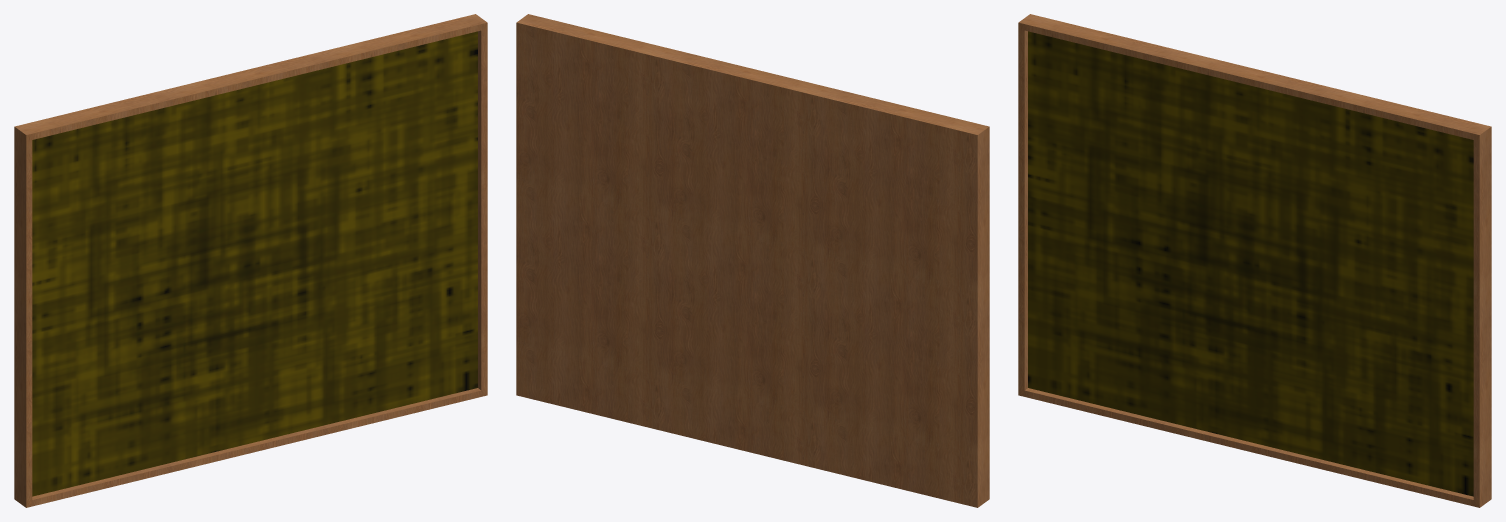
File: PictureFrame2.FBX
The picture shows the model from 3 angles, left to right: view 1: azimuth 30°, elevation 25°; view 2: azimuth 150°, elevation 25°; view 3: azimuth 330°, elevation 25°; orthographic projection.
Visible parts, largest first — view 1: PictureFrame2; view 2: PictureFrame2; view 3: PictureFrame2.
Boxes of the visible parts, x1,y1,x2,y2 form: PictureFrame2: [14, 14, 487, 507]; PictureFrame2: [516, 14, 989, 507]; PictureFrame2: [1018, 14, 1491, 507].
Size of the model in its own units: 75.26 by 58.12 by 3.32.
